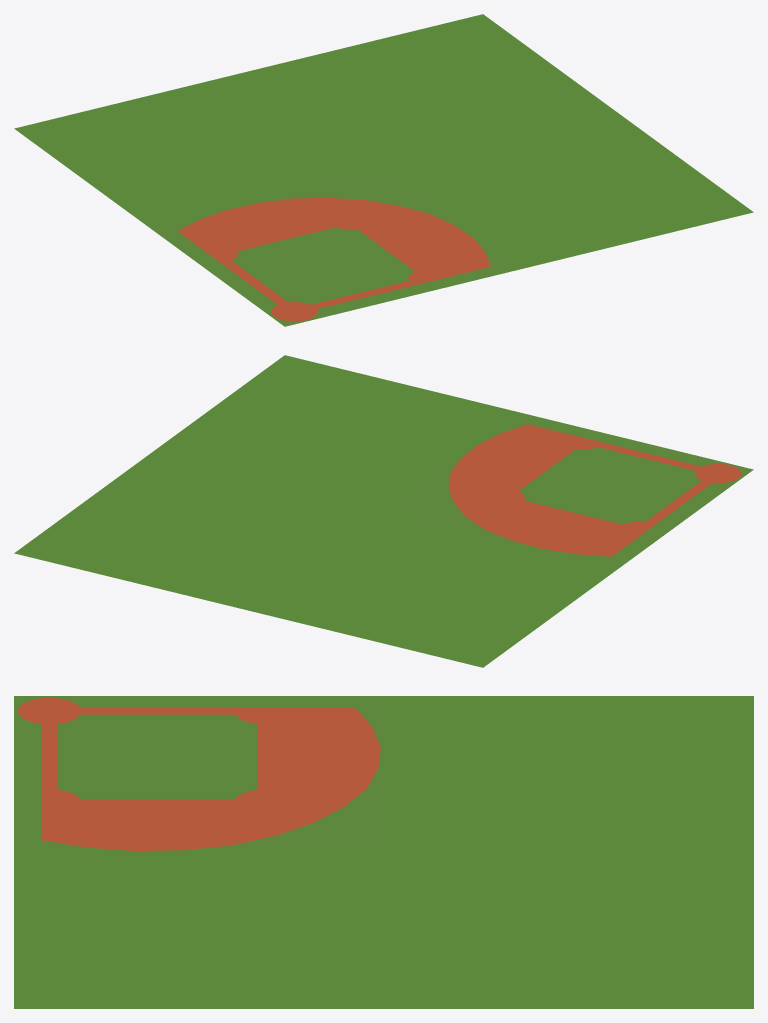
Rendered from 7116394f-b2c8-423d-bfa1-376b187febdb.glb.
The picture shows the model from 3 angles, top to bottom: view 1: azimuth 30°, elevation 25°; view 2: azimuth 150°, elevation 25°; view 3: azimuth 270°, elevation 25°; orthographic projection. The views are drawn at different scales.
Parts seen in each view (by area): view 1: BaseballDiamond; view 2: BaseballDiamond; view 3: BaseballDiamond.
Boxes of the visible parts, bbox=[...] form: BaseballDiamond: bbox=[14, 14, 753, 326]; BaseballDiamond: bbox=[14, 355, 753, 667]; BaseballDiamond: bbox=[14, 696, 753, 1008].
Size of the model in its own units: 32 by 0 by 32.
Materials: 1 (1 with a texture image).
